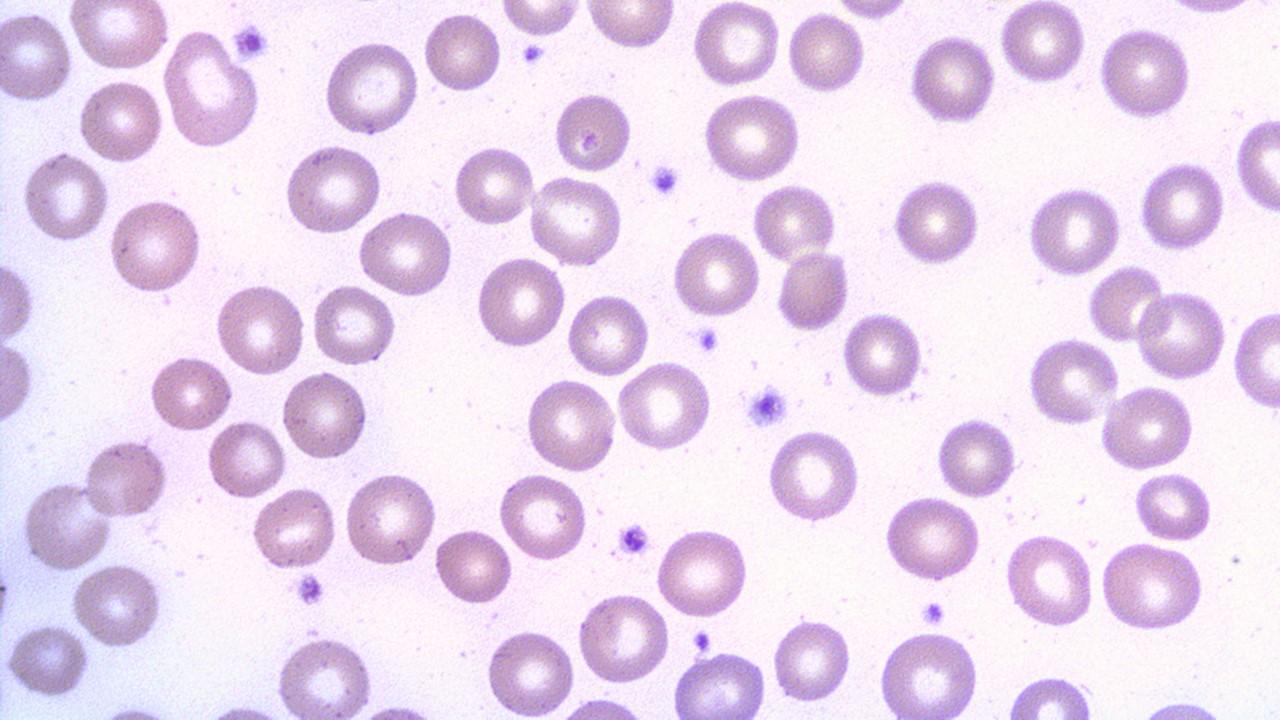Platelets: (743, 381, 790, 431), (231, 22, 269, 61), (614, 519, 652, 557), (648, 160, 683, 199), (292, 570, 327, 608), (918, 599, 948, 629), (694, 324, 720, 354), (690, 625, 713, 654), (520, 41, 546, 66)
RBC: (160, 27, 265, 150), (107, 195, 208, 298), (1099, 539, 1207, 634), (320, 38, 422, 138), (340, 468, 438, 570), (876, 626, 984, 718), (614, 358, 716, 454), (282, 141, 384, 237), (880, 492, 984, 586), (1096, 25, 1194, 124), (764, 427, 864, 524), (700, 91, 804, 184), (653, 524, 752, 621), (523, 375, 619, 475), (1002, 529, 1096, 631), (272, 629, 379, 718), (1023, 182, 1121, 279), (213, 279, 307, 380), (1133, 286, 1229, 383), (576, 589, 672, 686), (526, 173, 624, 268), (1096, 383, 1198, 474), (20, 476, 115, 572), (482, 622, 577, 718), (473, 254, 568, 350), (20, 146, 111, 246), (354, 209, 456, 298), (888, 173, 983, 268), (1024, 334, 1120, 427), (69, 560, 166, 652), (496, 470, 590, 564), (1136, 158, 1228, 254), (906, 31, 998, 126), (280, 366, 370, 463), (670, 227, 762, 319), (690, 0, 782, 90), (249, 482, 338, 573), (76, 75, 165, 166), (840, 306, 926, 400), (997, 0, 1087, 89), (770, 612, 854, 706), (310, 280, 399, 368), (565, 289, 652, 379), (82, 434, 170, 522), (749, 180, 841, 264), (450, 142, 536, 229), (146, 351, 235, 435), (0, 6, 74, 106), (3, 619, 92, 702), (65, 2, 172, 70), (933, 414, 1017, 500), (784, 8, 866, 96), (205, 416, 288, 502), (421, 8, 503, 95), (552, 88, 634, 174), (1086, 261, 1168, 345), (432, 524, 514, 608), (669, 650, 769, 718), (775, 248, 851, 334), (1132, 467, 1214, 543), (1231, 110, 1279, 218), (1231, 305, 1279, 411), (582, 2, 678, 51), (999, 674, 1101, 717), (0, 336, 36, 430), (498, 1, 584, 39), (0, 256, 37, 344), (830, 0, 912, 21)
WBC: (2, 336, 43, 434)
